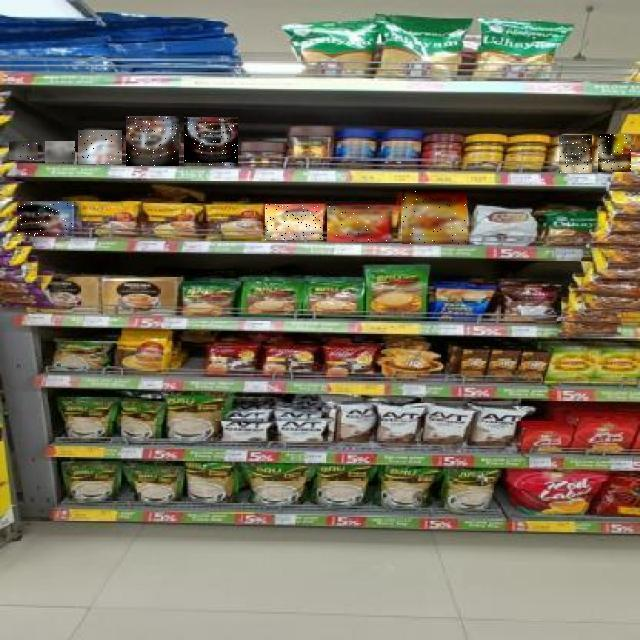Coffee: (402, 191, 467, 245), (126, 116, 179, 166), (184, 118, 238, 166), (328, 206, 396, 242), (265, 205, 323, 241), (18, 201, 74, 236), (78, 130, 122, 164), (598, 134, 631, 172), (559, 135, 592, 173), (45, 142, 75, 164), (10, 142, 40, 160)
